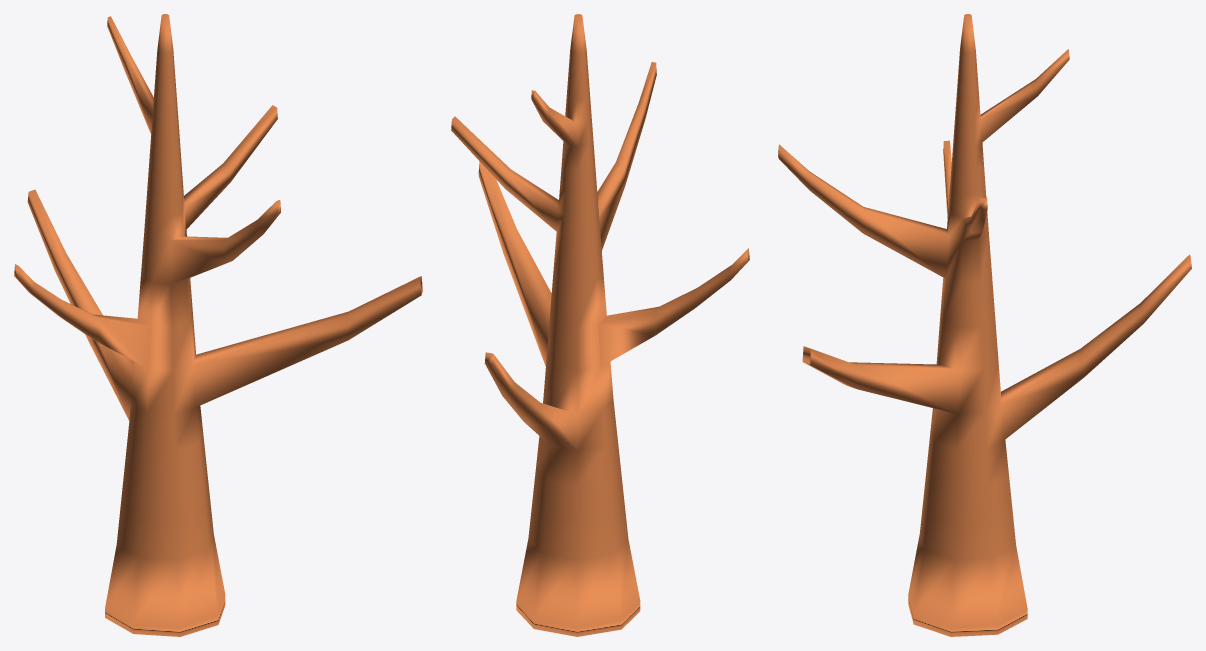
File: ENV_Tree_03.fbx
The picture shows the model from 3 angles, left to right: view 1: azimuth 30°, elevation 25°; view 2: azimuth 150°, elevation 25°; view 3: azimuth 270°, elevation 25°; orthographic projection.
Visible parts, largest first — view 1: Cylinder.005; view 2: Cylinder.005; view 3: Cylinder.005.
Boxes of the visible parts, box(x1,y1,x2,y2) form: Cylinder.005: box(14, 14, 422, 636); Cylinder.005: box(451, 14, 749, 636); Cylinder.005: box(778, 14, 1191, 636).
Size of the model in its own units: 828 by 783 by 1316.
